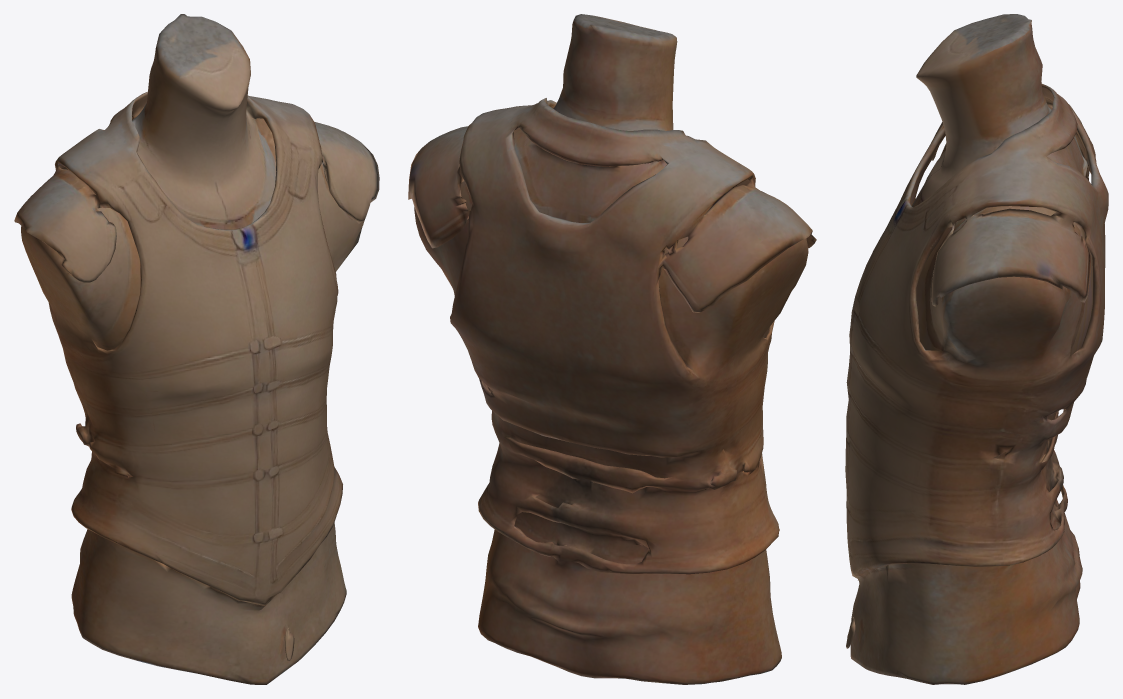
The model's file is Leather Body.glb.
The picture shows the model from 3 angles, left to right: view 1: azimuth 30°, elevation 25°; view 2: azimuth 150°, elevation 25°; view 3: azimuth 270°, elevation 25°; orthographic projection. The views are drawn at different scales.
Parts seen in each view (by area): view 1: file1; view 2: file1; view 3: file1.
Part boxes in pixels (bbox=[...]): file1: bbox=[14, 14, 379, 684]; file1: bbox=[408, 14, 816, 684]; file1: bbox=[845, 14, 1108, 684].
Size of the model in its own units: 1.1 by 1.88 by 0.6993.
Materials: 1 (1 with a texture image).
